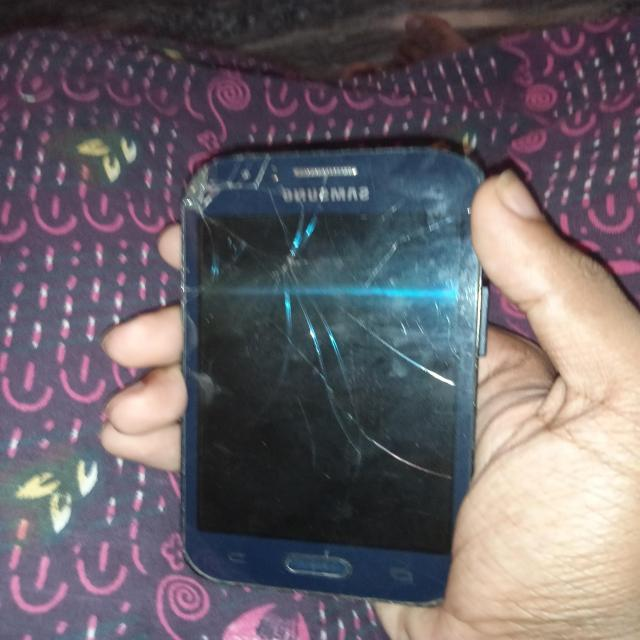mobile: (80, 104, 559, 616)
